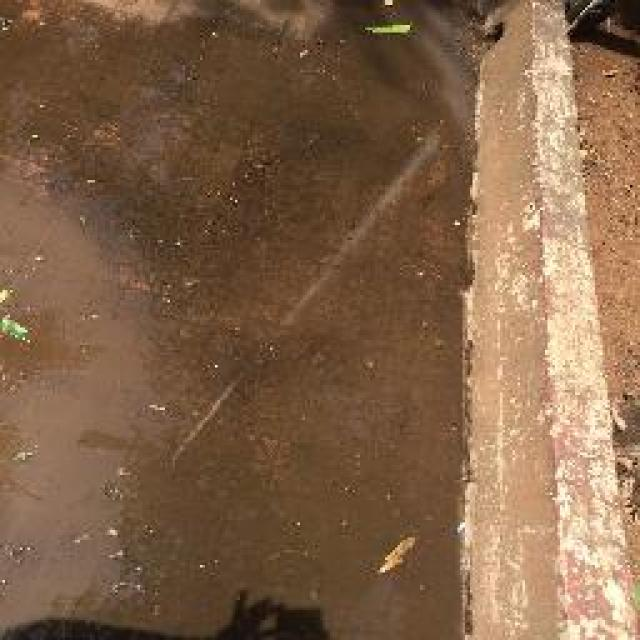stagnation: (0, 6, 458, 595)
